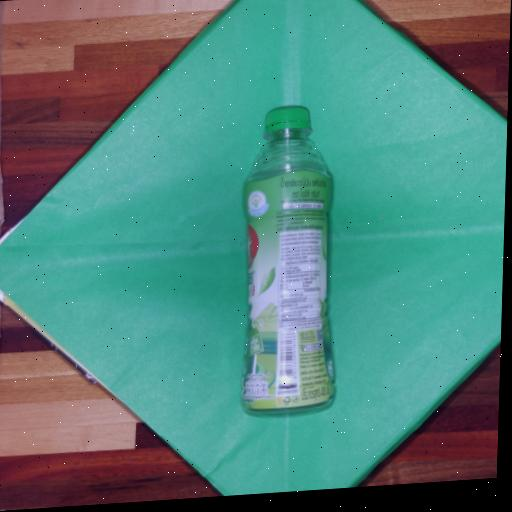bottle: (242, 106, 333, 411)
